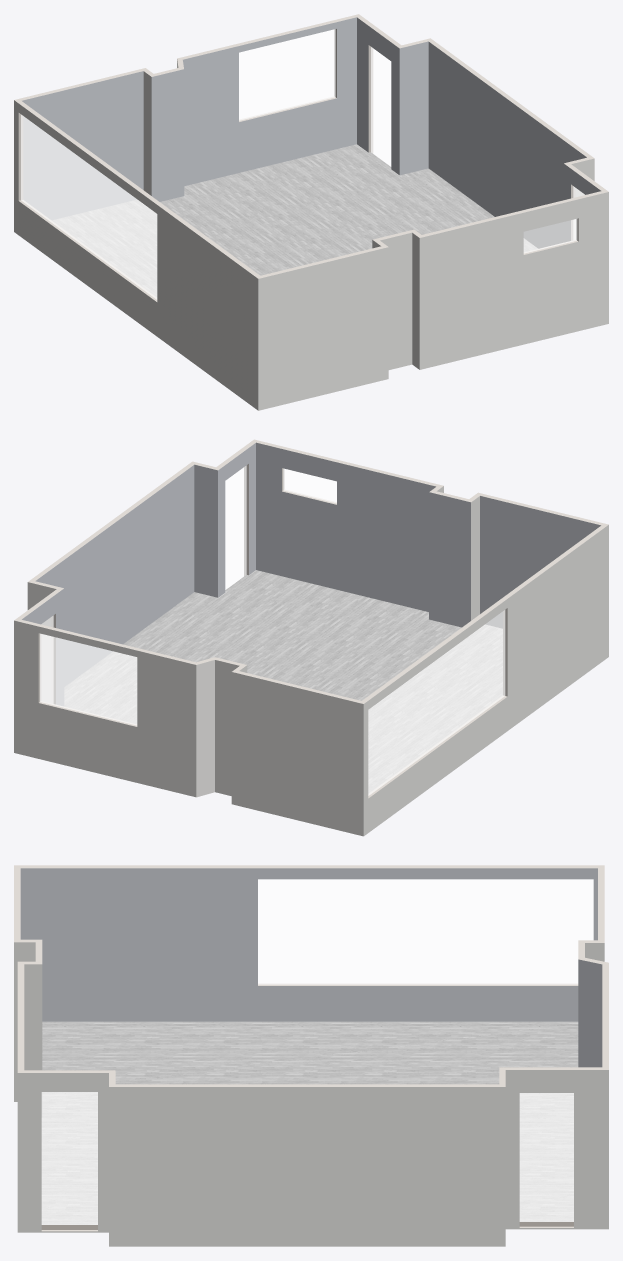
File: room.glb
3 renders of one model, top to bottom at view 1: azimuth 30°, elevation 25°; view 2: azimuth 150°, elevation 25°; view 3: azimuth 270°, elevation 25°, orthographic. The views are drawn at different scales.
Visible parts, largest first — view 1: floor_Dining Room_0, wall_6, wall_11, wall_4, wall_40, wall_22, wall_42, window_1, window_4, window_2, window_5, wall_36 (+15 smaller); view 2: floor_Dining Room_0, wall_28, wall_11, wall_13, wall_3, wall_40, window_1, window_4, wall_24, window_2, window_5, wall_20 (+15 smaller); view 3: wall_12, wall_38, floor_Dining Room_0, window_1, window_4, wall_1, door_1, door_3, door_0, door_2, wall_0, wall_39 (+9 smaller).
Part boxes in pixels (x1,y1,x2,y2): floor_Dining Room_0: (52,144,537,296); wall_6: (419,192,608,369); wall_11: (14,100,258,410); wall_4: (258,247,388,410); wall_40: (428,42,586,248); wall_22: (183,17,356,186); wall_42: (22,71,143,219); window_1: (21,115,156,299); window_4: (21,115,156,299); window_2: (239,29,335,120); window_5: (239,29,335,120); wall_36: (151,69,184,201); floor_Dining Room_0: (64,570,502,793); wall_28: (256,442,435,611); wall_11: (363,525,608,835); wall_13: (231,672,363,836); wall_3: (14,620,196,797); wall_40: (35,465,194,686); window_1: (368,610,504,795); window_4: (368,610,504,795); wall_24: (480,496,600,628); window_2: (40,634,136,725); window_5: (40,634,136,724); wall_20: (429,492,470,627); wall_12: (109,1087,505,1246); wall_38: (20,868,597,1021); floor_Dining Room_0: (42,1021,578,1224); window_1: (258,879,593,984); window_4: (258,879,593,984); wall_1: (505,1070,608,1229); door_1: (42,1092,97,1224); door_3: (42,1092,97,1224); door_0: (520,1093,573,1221); door_2: (520,1093,573,1221); wall_0: (17,1073,108,1232); wall_39: (14,865,604,985).
Bounding box in the file's own units: 7.96 × 2.67 × 9.03.
Materials: 36 (1 with a texture image).
